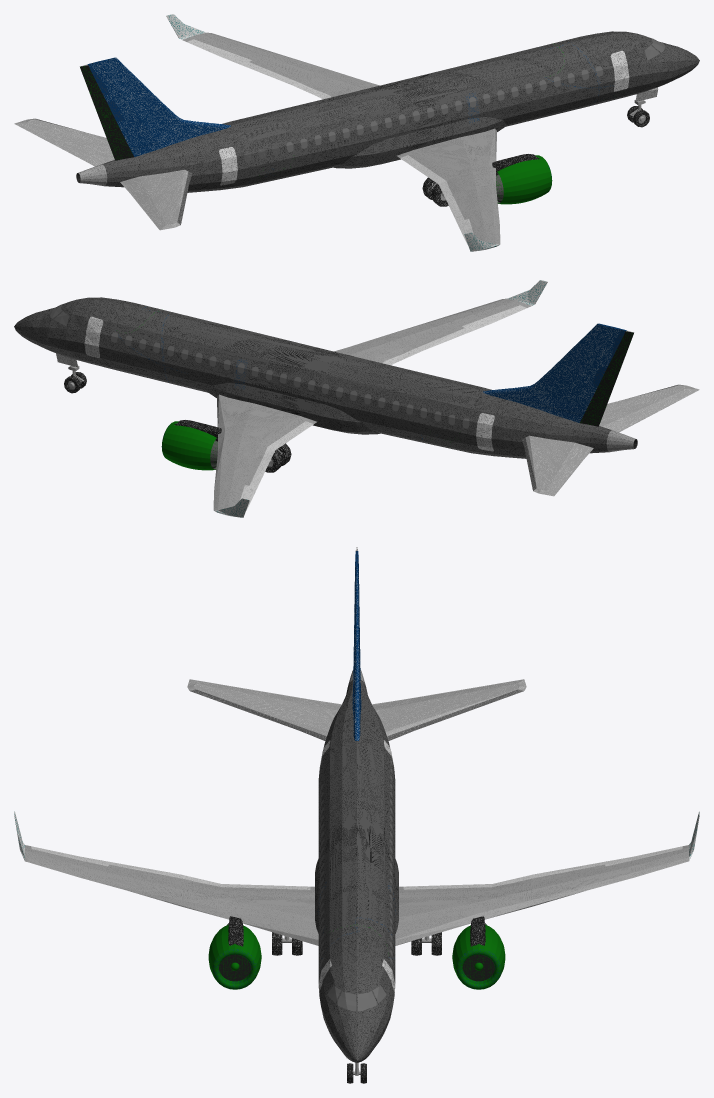
3 renders of one model, top to bottom at view 1: azimuth 30°, elevation 25°; view 2: azimuth 150°, elevation 25°; view 3: azimuth 270°, elevation 25°, orthographic. The views are drawn at different scales.
Visible parts, largest first — view 1: mesh37.001_mesh37-geometry, mesh36.001_mesh36-geometry, mesh33.002_mesh33-geometry, mesh22.002_mesh22-geometry, mesh12.001_mesh12-geometry, mesh35.001_mesh35-geometry, mesh34.002_mesh34-geometry; view 2: mesh37.001_mesh37-geometry, mesh36.001_mesh36-geometry, mesh22.002_mesh22-geometry, mesh33.002_mesh33-geometry, mesh35.001_mesh35-geometry, mesh12.001_mesh12-geometry, mesh23.002_mesh23-geometry; view 3: mesh37.001_mesh37-geometry, mesh33.002_mesh33-geometry, mesh22.002_mesh22-geometry, mesh35.001_mesh35-geometry, mesh12.001_mesh12-geometry, mesh34.002_mesh34-geometry, mesh23.002_mesh23-geometry, mesh36.001_mesh36-geometry.
Boxes of the visible parts, x1,y1,x2,y2 form: mesh37.001_mesh37-geometry: (76,31,699,192); mesh36.001_mesh36-geometry: (80,57,230,160); mesh33.002_mesh33-geometry: (397,128,500,251); mesh22.002_mesh22-geometry: (166,14,379,99); mesh12.001_mesh12-geometry: (120,169,192,230); mesh35.001_mesh35-geometry: (14,118,114,166); mesh34.002_mesh34-geometry: (496,155,552,204); mesh37.001_mesh37-geometry: (14,297,637,458); mesh36.001_mesh36-geometry: (483,323,633,426); mesh22.002_mesh22-geometry: (213,394,316,517); mesh33.002_mesh33-geometry: (334,280,547,365); mesh35.001_mesh35-geometry: (521,435,593,496); mesh12.001_mesh12-geometry: (599,384,699,432); mesh23.002_mesh23-geometry: (161,421,217,470); mesh37.001_mesh37-geometry: (315,670,398,1062); mesh33.002_mesh33-geometry: (14,811,318,945); mesh22.002_mesh22-geometry: (395,811,699,945); mesh35.001_mesh35-geometry: (372,679,526,740); mesh12.001_mesh12-geometry: (187,679,341,740); mesh34.002_mesh34-geometry: (208,923,261,989); mesh23.002_mesh23-geometry: (452,923,505,989); mesh36.001_mesh36-geometry: (352,547,361,740).
Bounding box in the file's own units: 0.7491 × 0.2237 × 0.6235.
